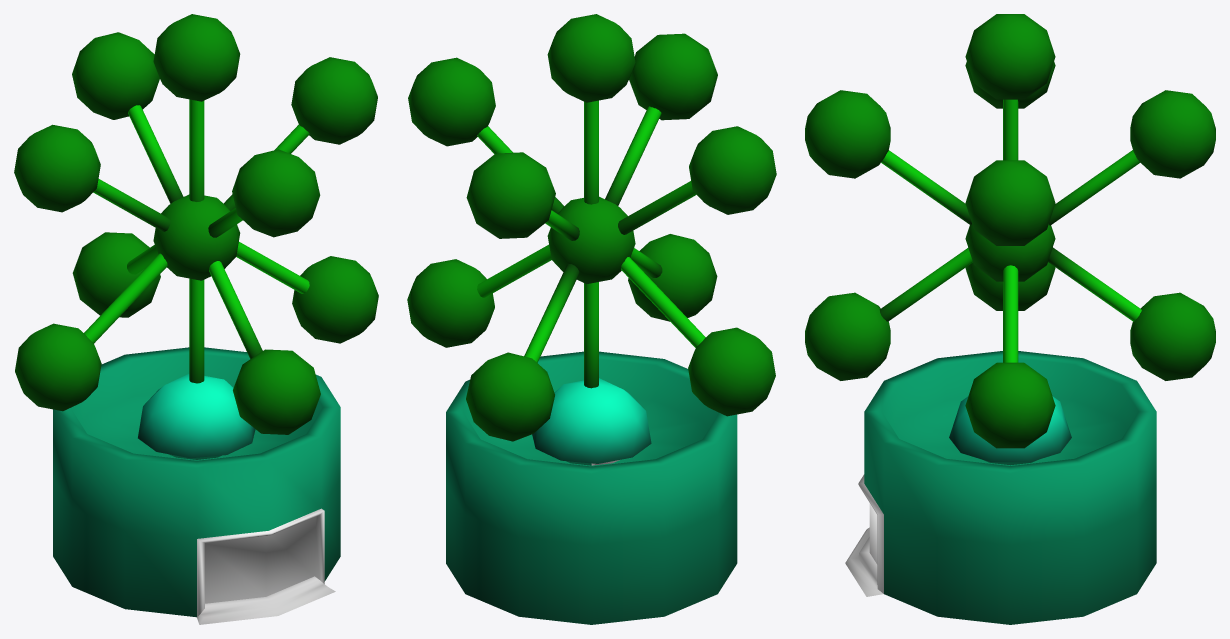
Rendered from Biology.fbx.
The picture shows the model from 3 angles, left to right: view 1: azimuth 30°, elevation 25°; view 2: azimuth 150°, elevation 25°; view 3: azimuth 270°, elevation 25°; orthographic projection.
Parts seen in each view (by area): view 1: Biology; view 2: Biology; view 3: Biology.
Part boxes in pixels (bbox=[...]): Biology: bbox=[14, 14, 378, 624]; Biology: bbox=[407, 14, 776, 624]; Biology: bbox=[805, 14, 1215, 624].
Bounding box in the file's own units: 611 × 895 × 609.
Materials: 1 (1 with a texture image).
